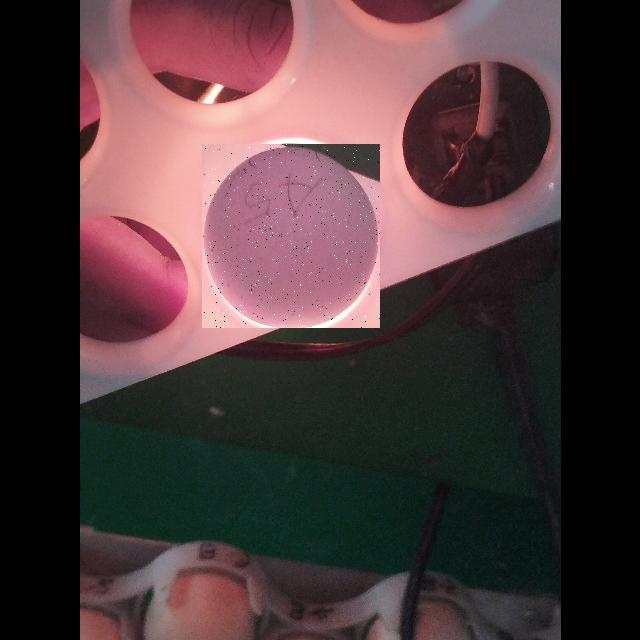B - Fair: (202, 144, 380, 328)
